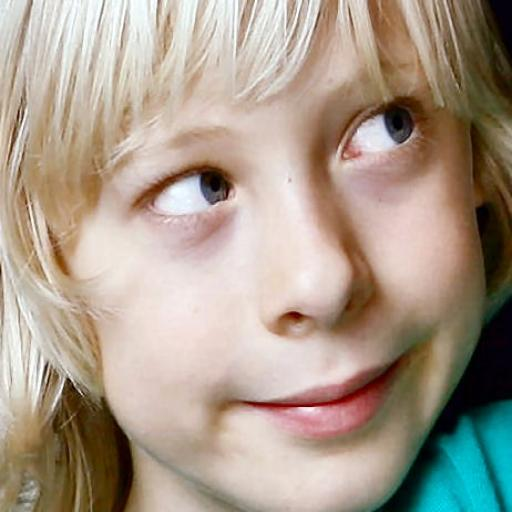Autism: (5, 11, 512, 498)
